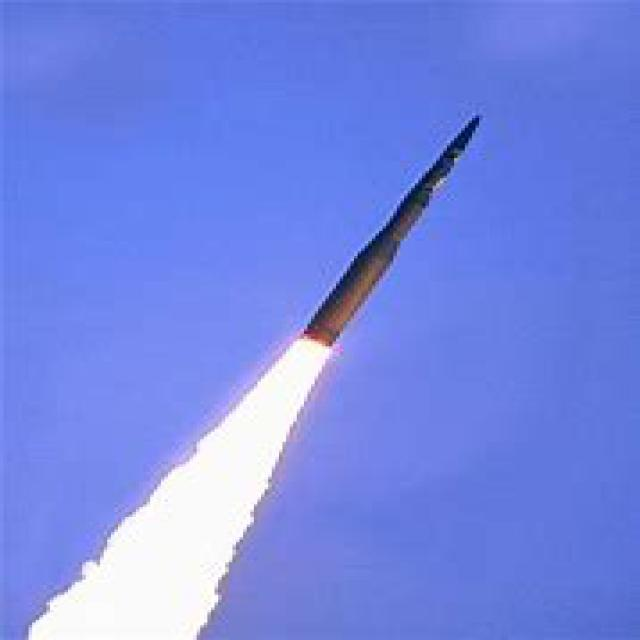missile: (292, 110, 492, 364)
